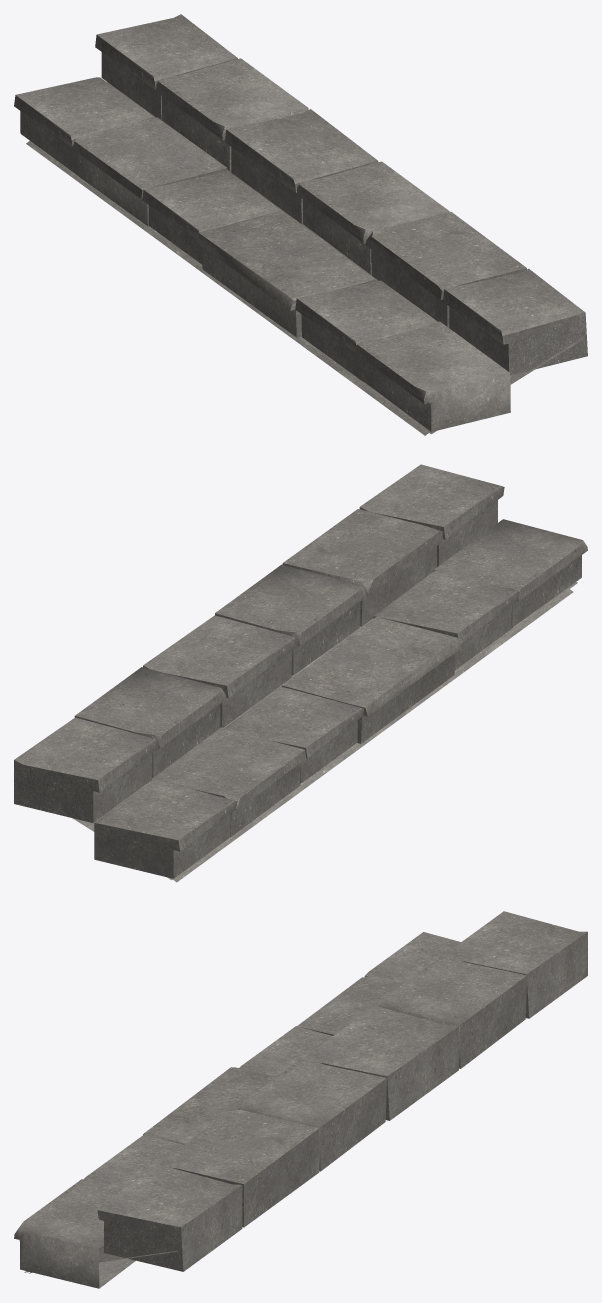
Rendered from SM_Stairs_03.fbx.
3 renders of one model, top to bottom at view 1: azimuth 30°, elevation 25°; view 2: azimuth 150°, elevation 25°; view 3: azimuth 330°, elevation 25°, orthographic.
Parts seen in each view (by area): view 1: SM_Stairs_03_LOD0; view 2: SM_Stairs_03_LOD0; view 3: SM_Stairs_03_LOD0.
Part boxes in pixels (x1,y1,x2,y2): SM_Stairs_03_LOD0: [14, 14, 587, 435]; SM_Stairs_03_LOD0: [14, 464, 587, 882]; SM_Stairs_03_LOD0: [14, 911, 587, 1288].
Size of the model in its own units: 121 by 504 by 59.46.
